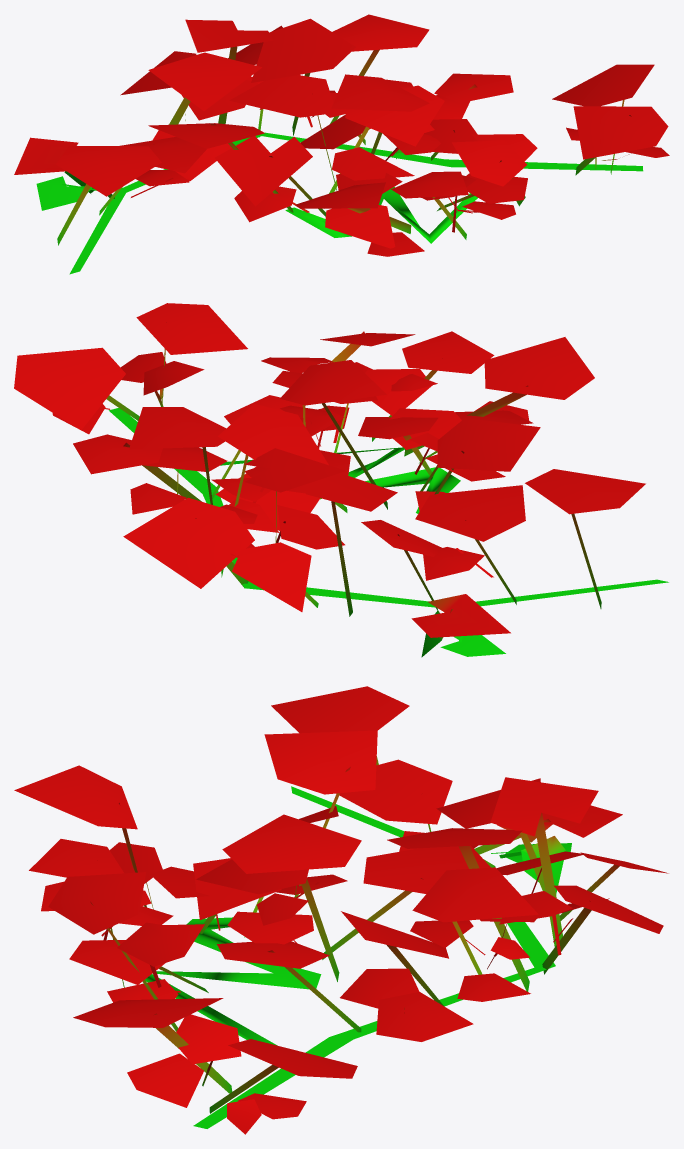
Rendered from Var3_LOD4.fbx.
The picture shows the model from 3 angles, top to bottom: view 1: azimuth 30°, elevation 25°; view 2: azimuth 150°, elevation 25°; view 3: azimuth 270°, elevation 25°; orthographic projection. The views are drawn at different scales.
Visible parts, largest first — view 1: _y5td_Var3_LOD4; view 2: _y5td_Var3_LOD4; view 3: _y5td_Var3_LOD4.
Boxes of the visible parts, x1,y1,x2,y2 form: _y5td_Var3_LOD4: (14,14,669,274); _y5td_Var3_LOD4: (14,303,668,657); _y5td_Var3_LOD4: (14,686,668,1134).
Size of the model in its own units: 59.67 by 13.42 by 44.34.
